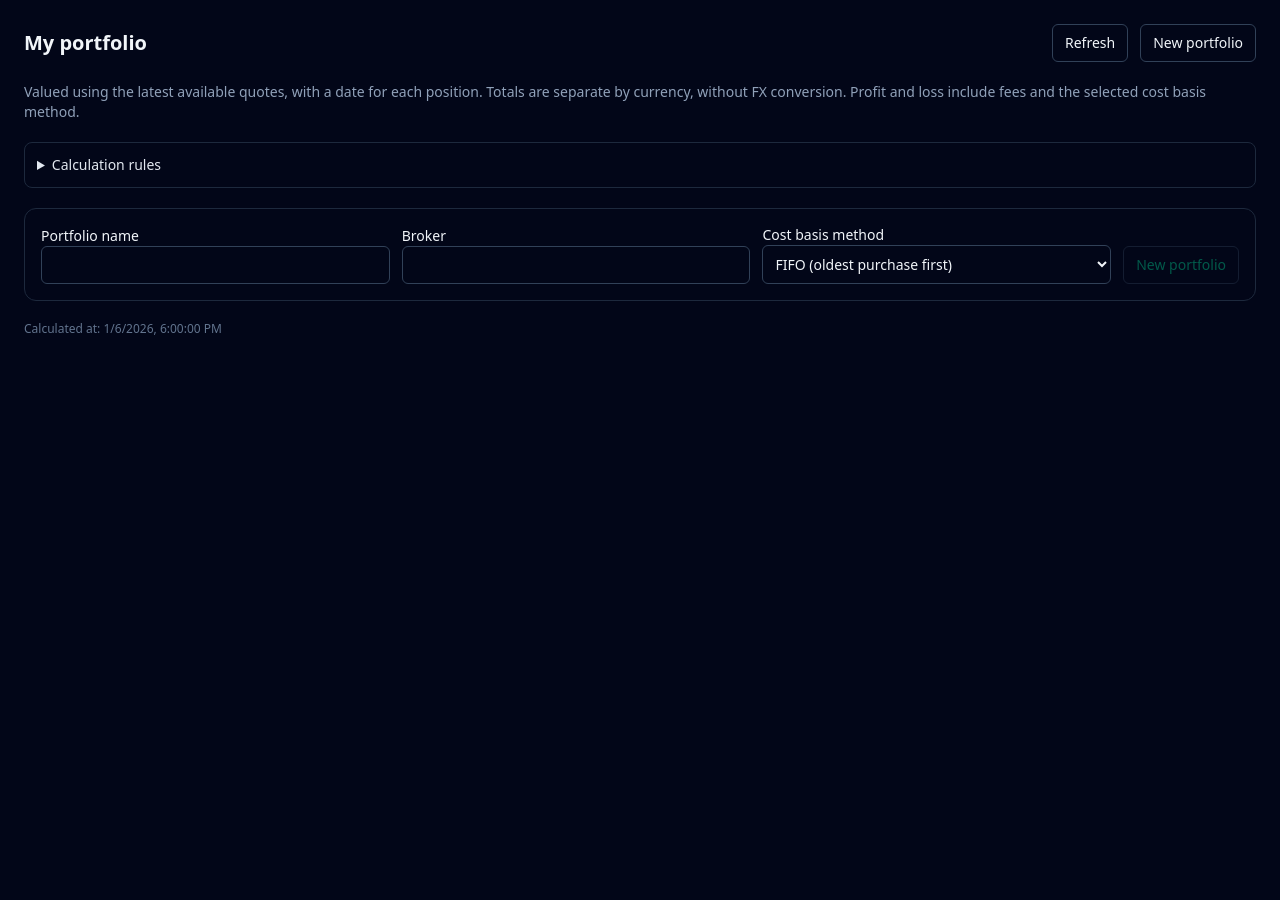
Test: account portfolios › creates a portfolio with a broker and records a dated purchase in quote currency
Type "Retirement" into the field labelled "Portfolio name" at {"x": 215, "y": 265}, box [41, 246, 390, 284]
Type "XTB" into the field labelled "Broker" at {"x": 576, "y": 265}, box [402, 246, 750, 284]
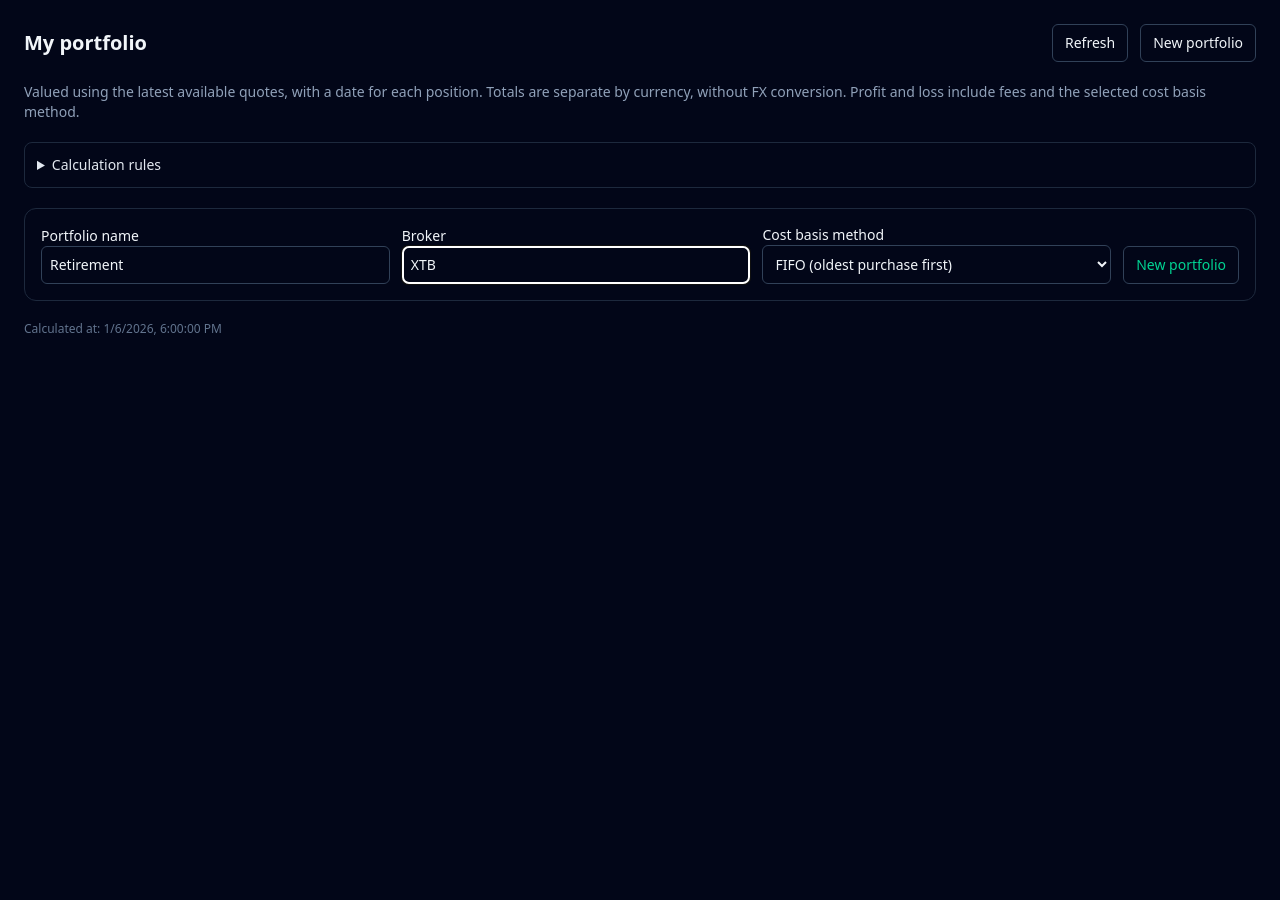
Submit the form labelled "Broker", box [41, 225, 1239, 284]
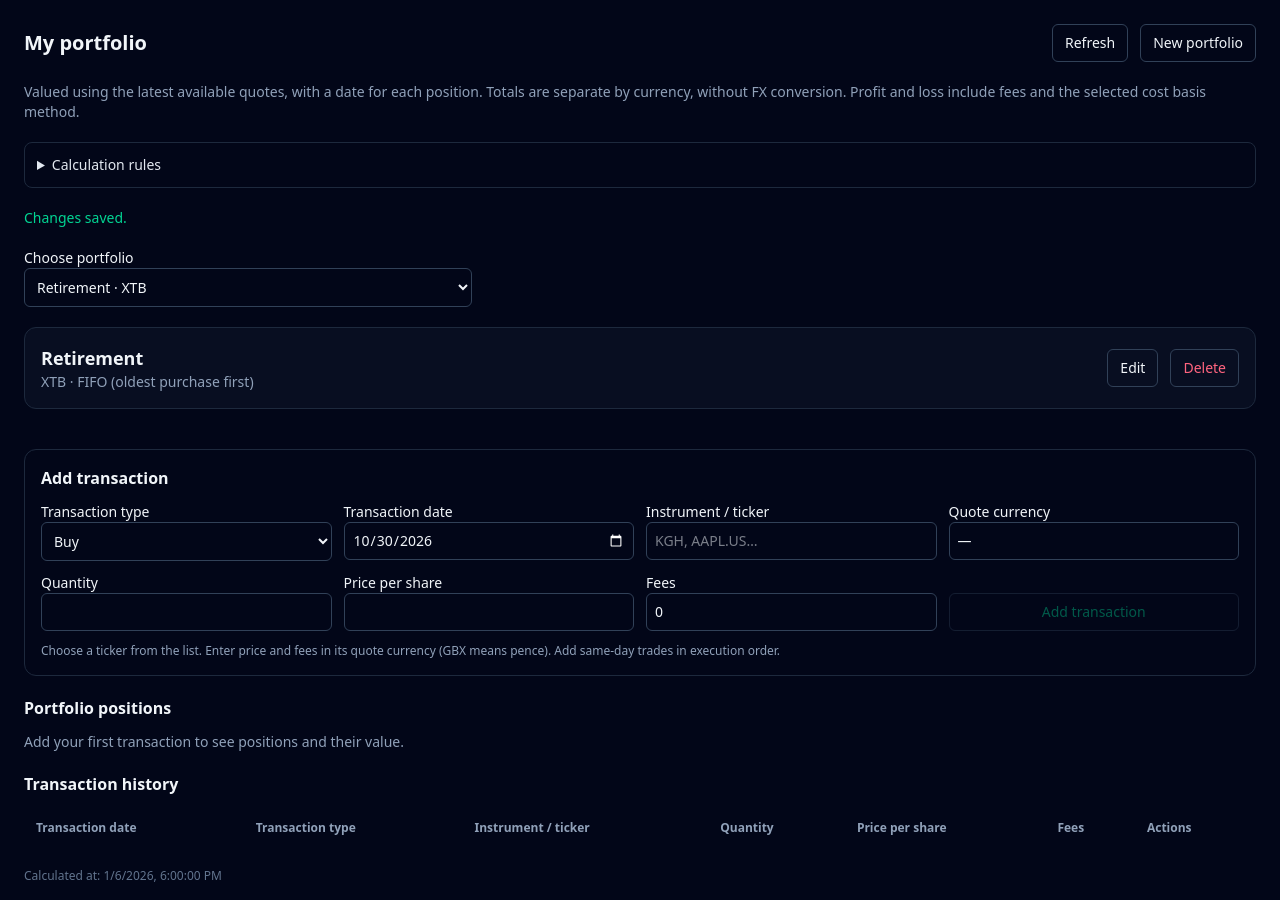
Type "KGH" into the field labelled "Instrument / ticker" at {"x": 791, "y": 541}, box [646, 522, 936, 560]
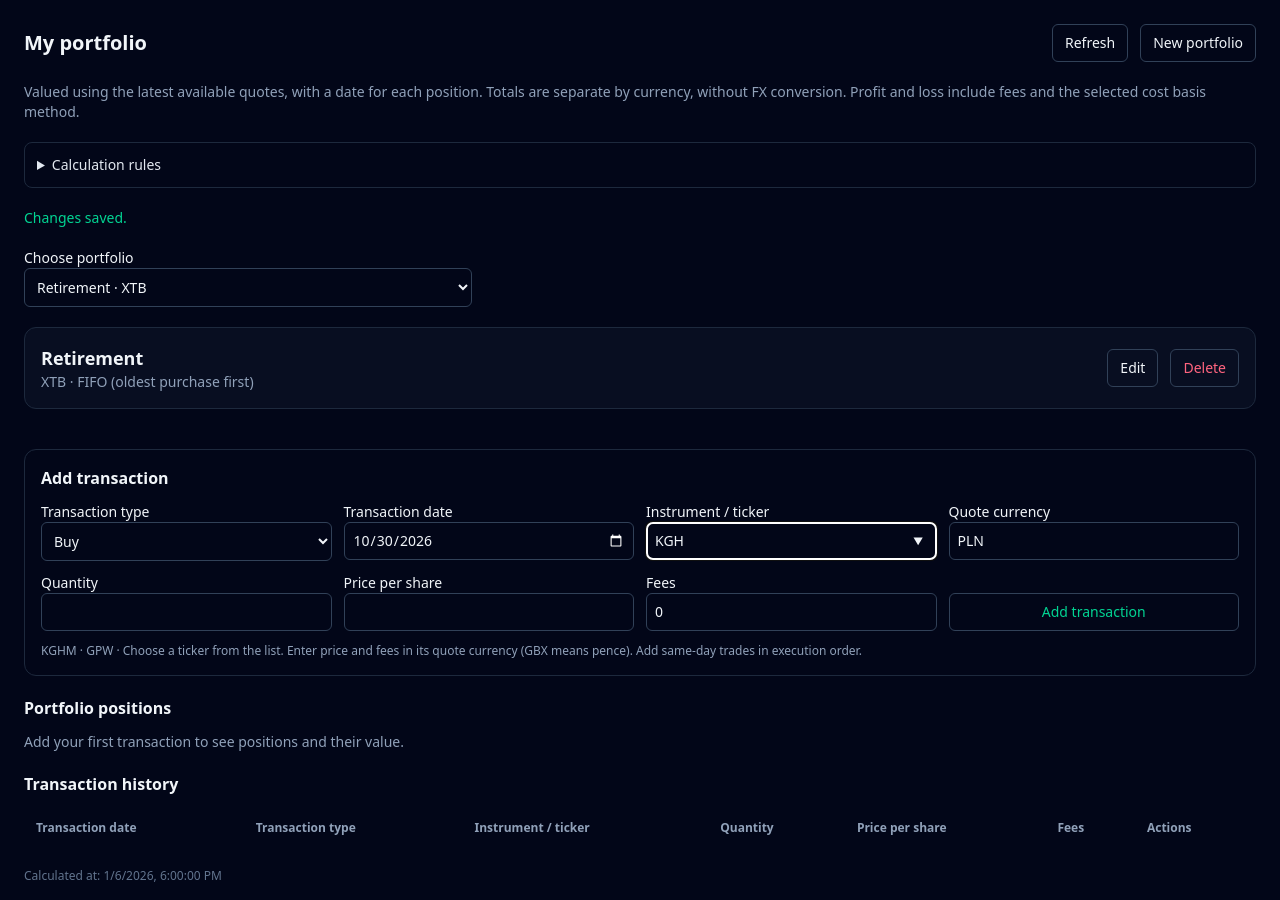
Expected: the field labelled "Quote currency" holds "PLN", [948, 522, 1239, 560]
Type "2026-01-02" into the date field labelled "Transaction date" at {"x": 489, "y": 541}, box [344, 522, 634, 560]
Type "10" into the number field labelled "Quantity" at {"x": 186, "y": 612}, box [41, 593, 332, 631]
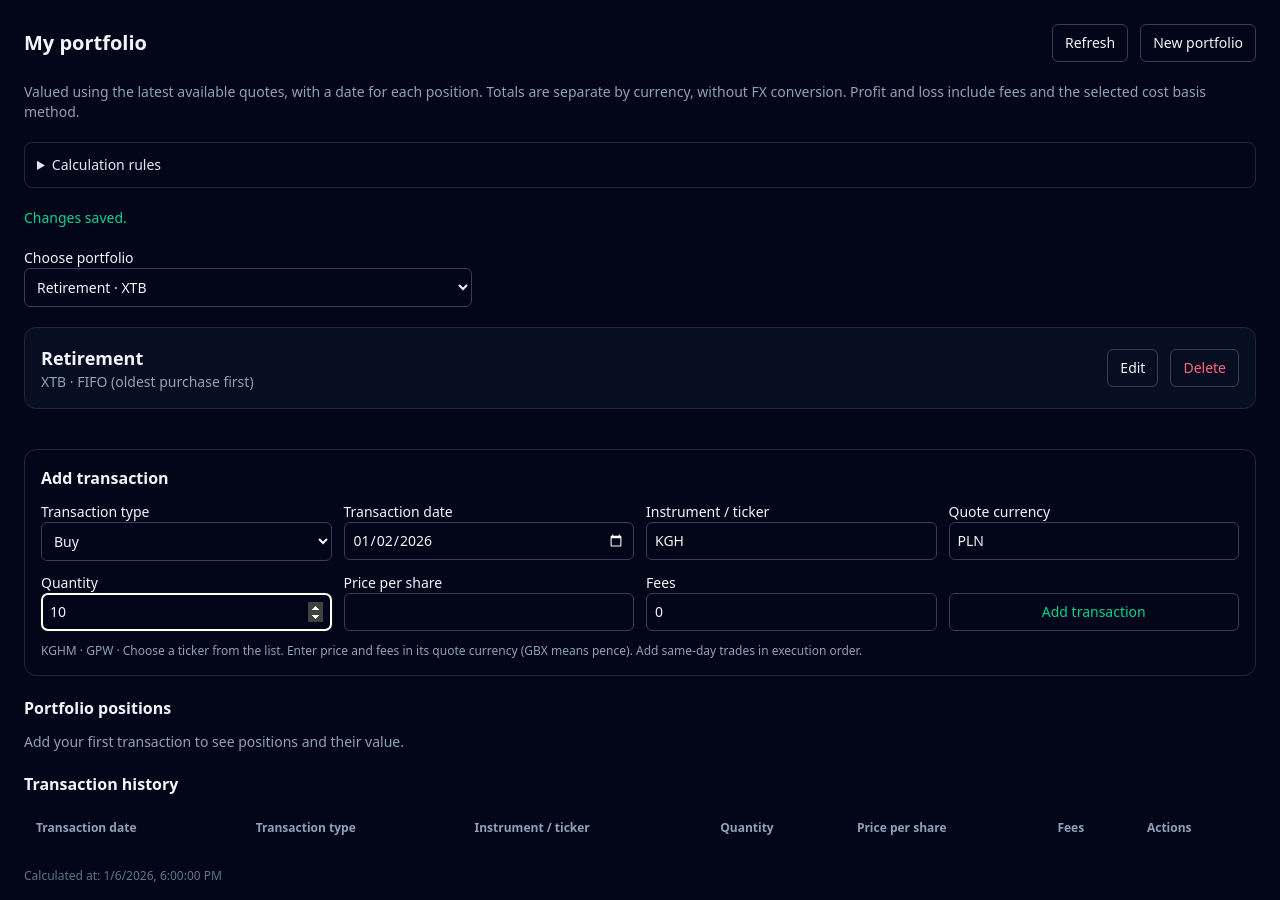
Type "100.25" into the number field labelled "Price per share" at {"x": 489, "y": 612}, box [344, 593, 634, 631]
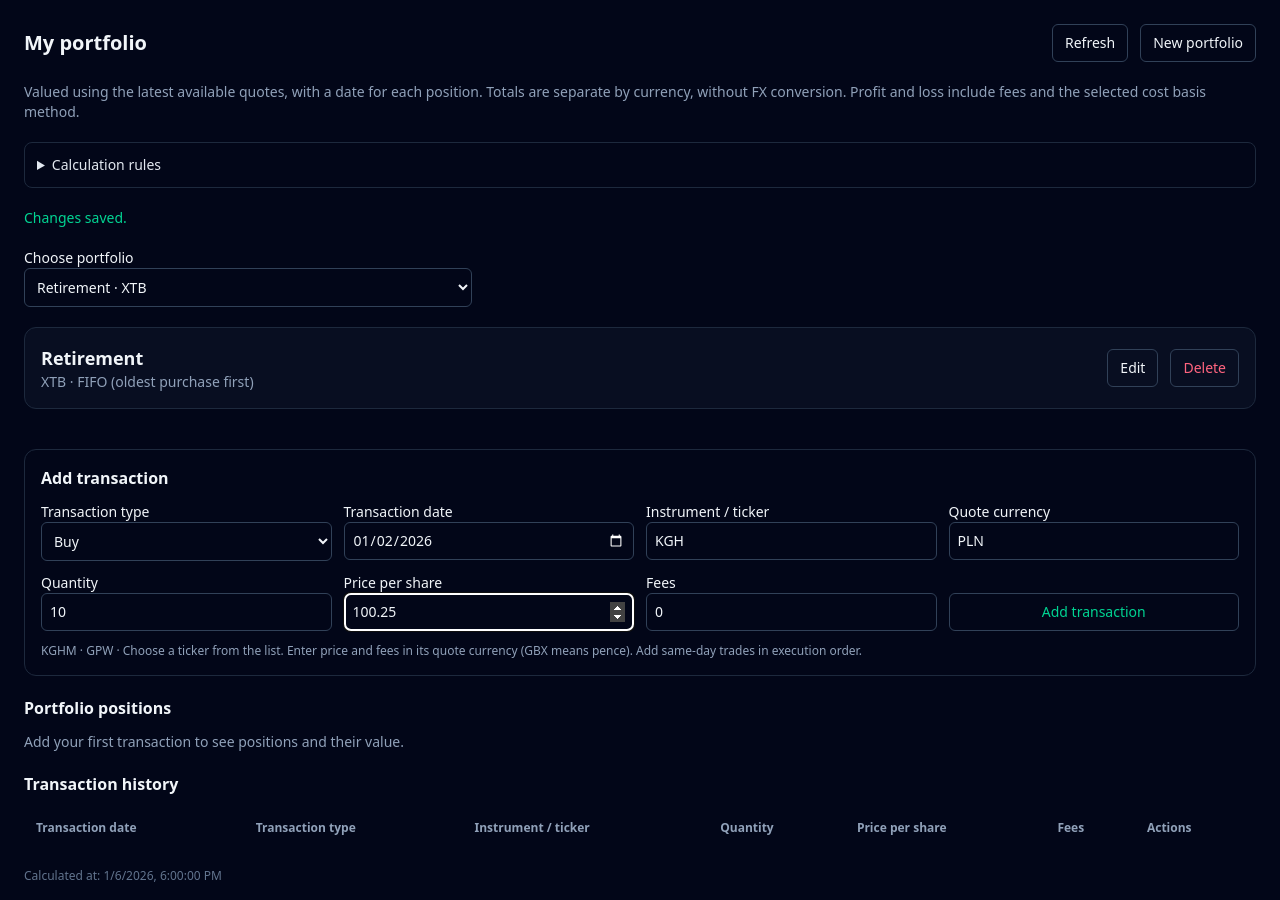
Click the button "Add transaction" at {"x": 1094, "y": 612}, box [948, 593, 1239, 631]
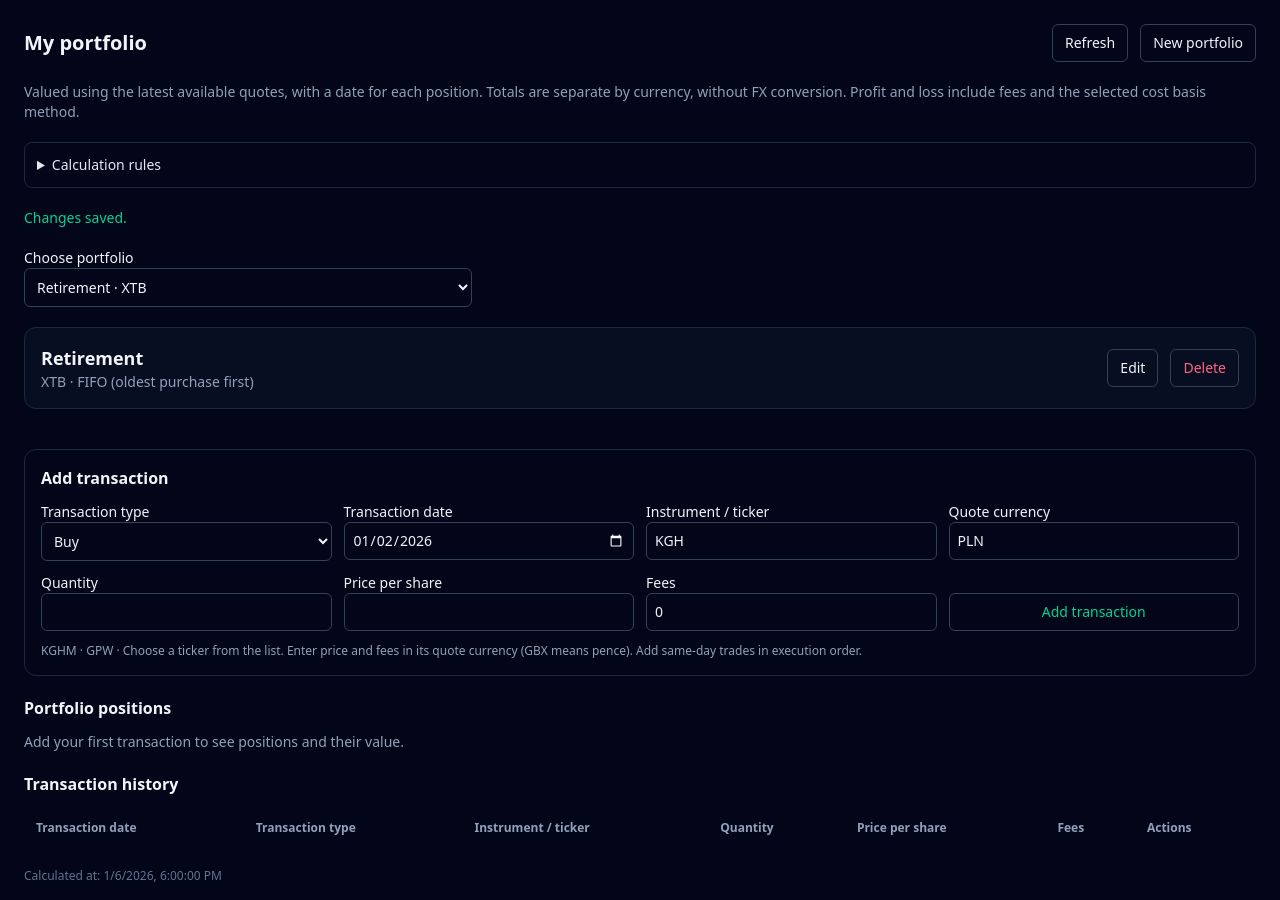
Expected: the number field labelled "Quantity" is not empty, [41, 593, 332, 631]
